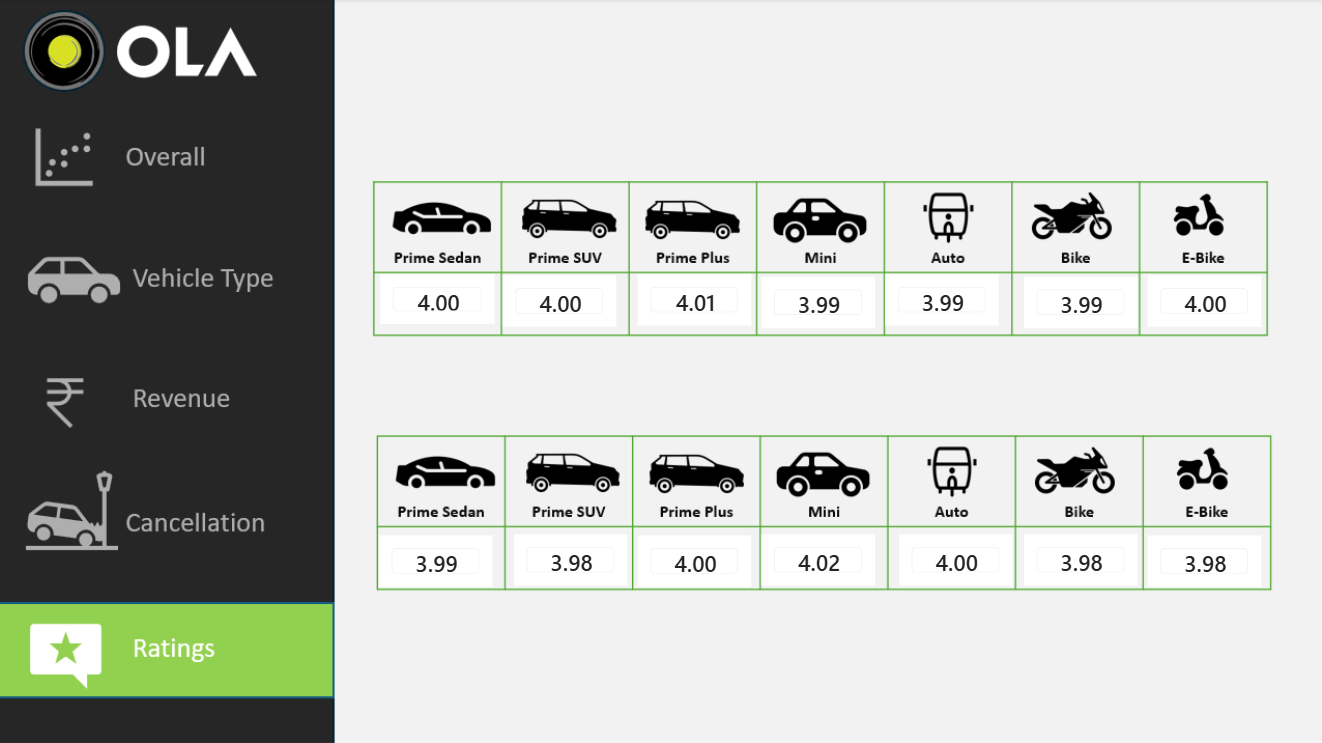

This screenshot's page, from the dashboard's own definition file:
{"tool":"powerbi","page":{"name":"Ratings","canvas":[1280,720],"ordinal":4},"visuals":[{"type":"actionButton","box":[0,214.1,323.8,96.1],"z":0},{"type":"actionButton","box":[0,338.9,323.8,96.1],"z":1000},{"type":"actionButton","box":[0,447.3,323.8,96.1],"z":2000},{"type":"actionButton","box":[0,104.3,323.8,96.1],"z":3000},{"type":"cardVisual","fields":{"Data":["Avg(July.Driver_Ratings)"]},"box":[362.6,262.2,120.1,58.8],"z":3001},{"type":"cardVisual","fields":{"Data":["Avg(July.Driver_Ratings)"]},"box":[481.8,262.8,119.7,59.9],"z":3002},{"type":"cardVisual","fields":{"Data":["Avg(July.Driver_Ratings)"]},"box":[611.7,261.3,119.7,59.9],"z":3003},{"type":"cardVisual","fields":{"Data":["Avg(July.Driver_Ratings)"]},"box":[731.4,264.2,119.7,59.9],"z":3004},{"type":"cardVisual","fields":{"Data":["Avg(July.Driver_Ratings)"]},"box":[851.1,261.3,119.7,59.9],"z":3005},{"type":"cardVisual","fields":{"Data":["Avg(July.Driver_Ratings)"]},"box":[983.9,264.2,119.7,59.9],"z":3006},{"type":"cardVisual","fields":{"Data":["Avg(July.Driver_Ratings)"]},"box":[1103.7,262.8,119.7,59.9],"z":3007},{"type":"cardVisual","fields":{"Data":["Avg(July.Customer_Rating)"]},"box":[362,513.9,119.7,59.9],"z":3008},{"type":"cardVisual","fields":{"Data":["Avg(July.Customer_Rating)"]},"box":[492,512.4,119.7,59.9],"z":3009},{"type":"cardVisual","fields":{"Data":["Avg(July.Customer_Rating)"]},"box":[611.7,513.9,119.7,59.9],"z":3010},{"type":"cardVisual","fields":{"Data":["Avg(July.Customer_Rating)"]},"box":[731.4,512.4,119.7,59.9],"z":3011},{"type":"cardVisual","fields":{"Data":["Avg(July.Customer_Rating)"]},"box":[864.2,512.4,119.7,59.9],"z":3012},{"type":"cardVisual","fields":{"Data":["Avg(July.Customer_Rating)"]},"box":[983.9,512.4,119.7,59.9],"z":3013},{"type":"cardVisual","fields":{"Data":["Avg(July.Customer_Rating)"]},"box":[1103.7,513.9,119.7,59.9],"z":3014}]}

Visuals, with their boxes on the page's 1280x720 design canvas (x1, y1, x2, y2). These are canvas units, not pixel positions in the 1322x743 screenshot, which may show the page scaled, cropped or inside an application window:
actionButton: <box>0,214,324,310</box>
actionButton: <box>0,339,324,435</box>
actionButton: <box>0,447,324,543</box>
actionButton: <box>0,104,324,200</box>
cardVisual - Avg(July.Driver_Ratings): <box>363,262,483,321</box>
cardVisual - Avg(July.Driver_Ratings): <box>482,263,602,323</box>
cardVisual - Avg(July.Driver_Ratings): <box>612,261,731,321</box>
cardVisual - Avg(July.Driver_Ratings): <box>731,264,851,324</box>
cardVisual - Avg(July.Driver_Ratings): <box>851,261,971,321</box>
cardVisual - Avg(July.Driver_Ratings): <box>984,264,1104,324</box>
cardVisual - Avg(July.Driver_Ratings): <box>1104,263,1223,323</box>
cardVisual - Avg(July.Customer_Rating): <box>362,514,482,574</box>
cardVisual - Avg(July.Customer_Rating): <box>492,512,612,572</box>
cardVisual - Avg(July.Customer_Rating): <box>612,514,731,574</box>
cardVisual - Avg(July.Customer_Rating): <box>731,512,851,572</box>
cardVisual - Avg(July.Customer_Rating): <box>864,512,984,572</box>
cardVisual - Avg(July.Customer_Rating): <box>984,512,1104,572</box>
cardVisual - Avg(July.Customer_Rating): <box>1104,514,1223,574</box>
